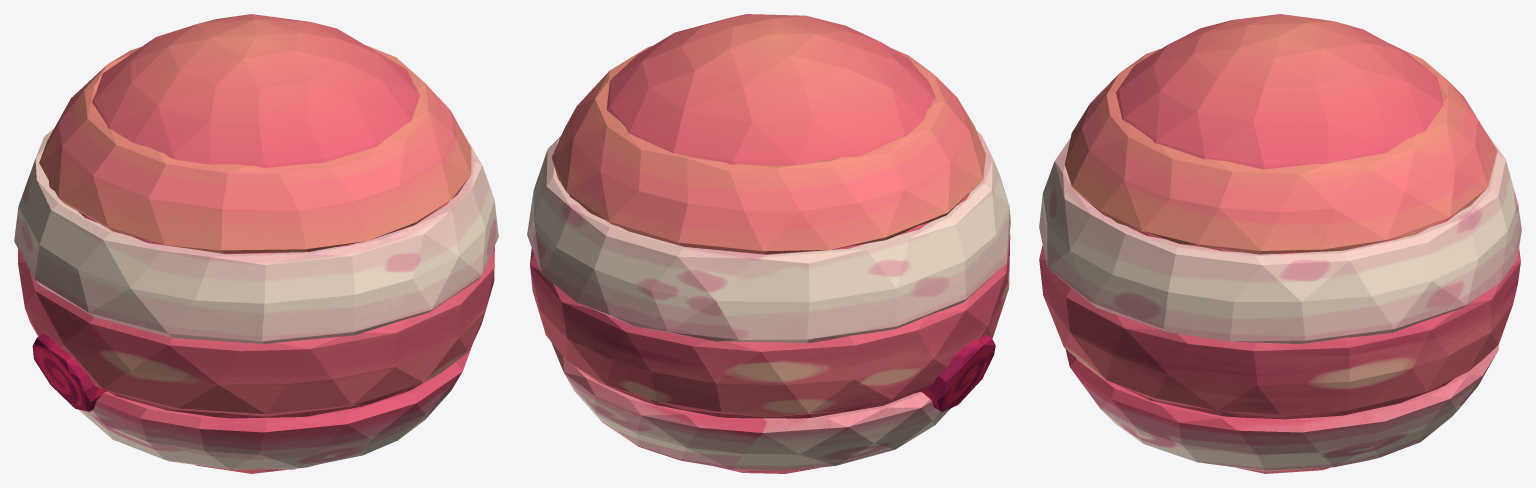
File: Jupiter.fbx
3 renders of one model, left to right at view 1: azimuth 30°, elevation 25°; view 2: azimuth 150°, elevation 25°; view 3: azimuth 270°, elevation 25°, orthographic.
Visible parts, largest first — view 1: Jupiter; view 2: Jupiter; view 3: Jupiter.
Boxes of the visible parts, x1,y1,x2,y2 form: Jupiter: (14,14,498,473); Jupiter: (527,14,1010,473); Jupiter: (1039,14,1521,473).
Bounding box in the file's own units: 2596 × 2464 × 2585.
